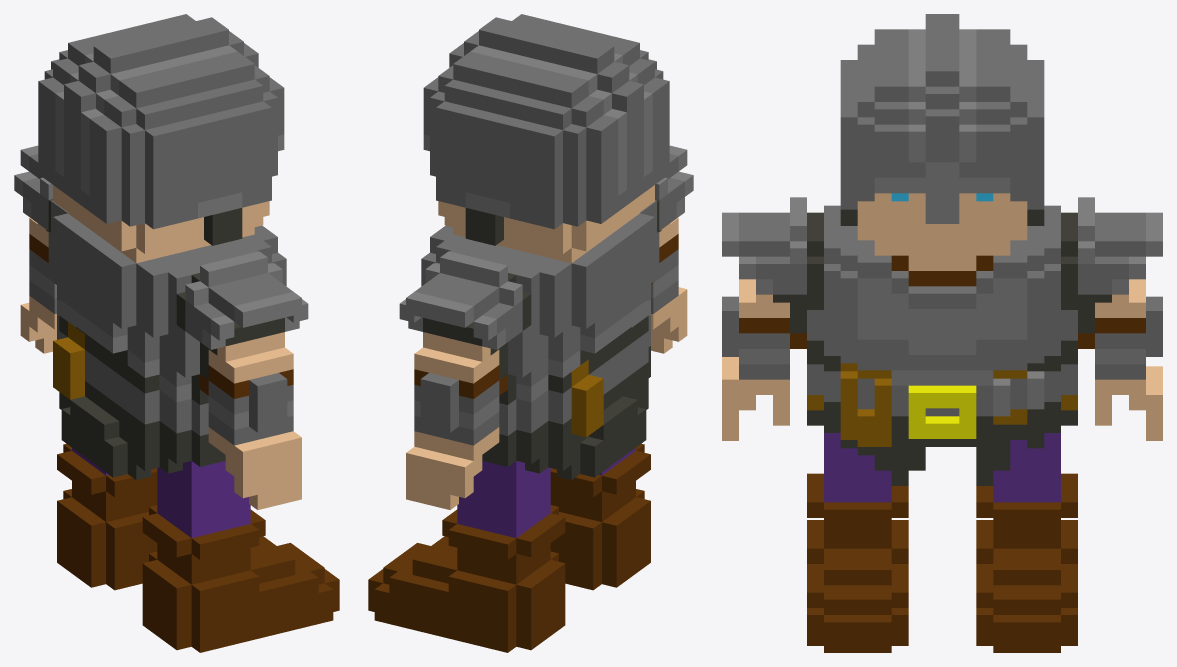
The model's file is player_phase2.fbx.
3 views of the same model, side by side, from view 1: azimuth 30°, elevation 25°; view 2: azimuth 150°, elevation 25°; view 3: azimuth 270°, elevation 25° (orthographic).
Parts seen in each view (by area): view 1: Untitled; view 2: Untitled; view 3: Untitled.
Boxes of the visible parts, x1=… form: Untitled: x1=14, y1=14, x2=339, y2=652; Untitled: x1=368, y1=14, x2=693, y2=652; Untitled: x1=722, y1=14, x2=1162, y2=652.
Size of the model in its own units: 1400 by 2600 by 3600.
Materials: 1 (1 with a texture image).
